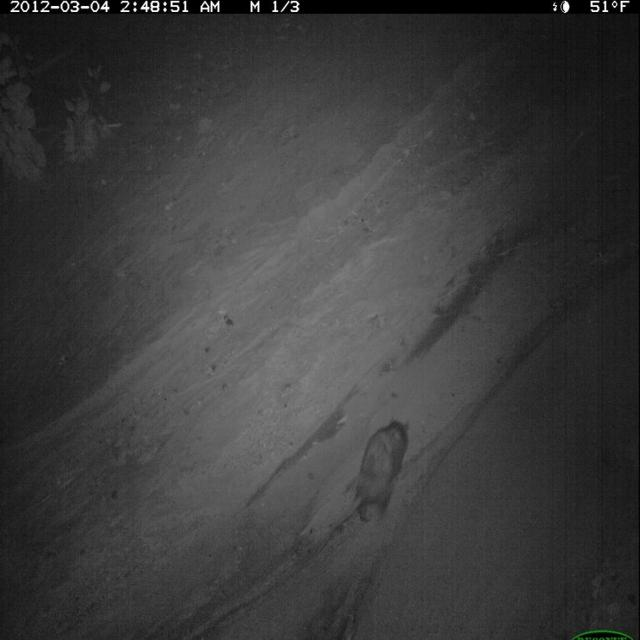opossum: (317, 417, 413, 556)
